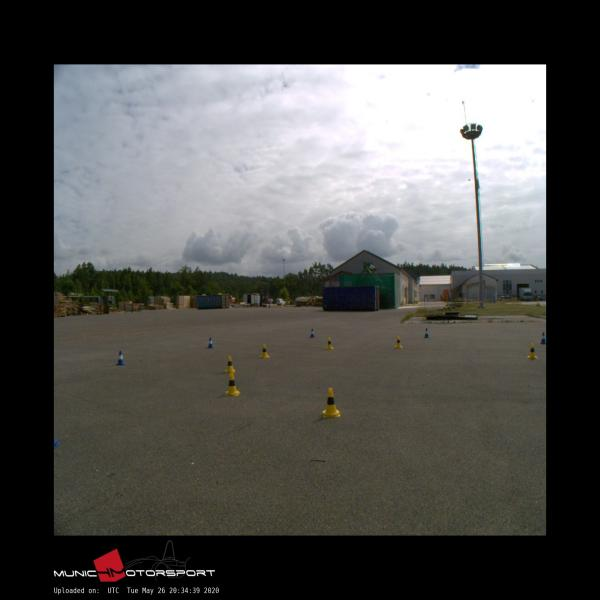blue_cone: (117, 350, 124, 364), (539, 332, 546, 343), (207, 337, 213, 348), (423, 328, 429, 338), (310, 329, 315, 337)
yellow_cone: (322, 388, 340, 416), (225, 372, 239, 396), (526, 342, 538, 359), (224, 355, 235, 372), (260, 343, 268, 358), (394, 336, 402, 348), (326, 338, 332, 348)
